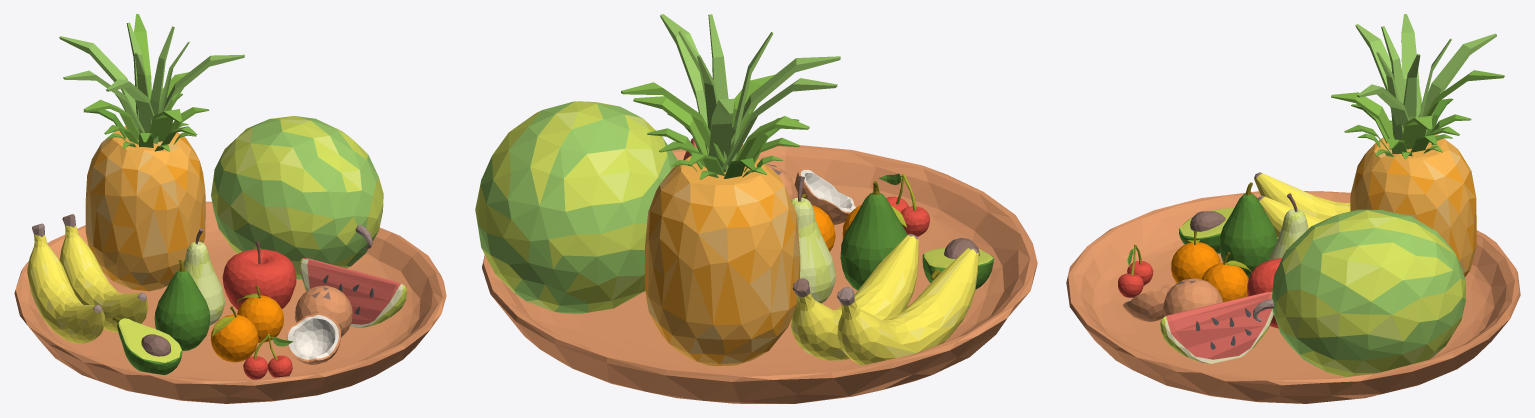
Rendered from low_poly_fruits_v2.glb.
3 renders of one model, left to right at view 1: azimuth 30°, elevation 25°; view 2: azimuth 150°, elevation 25°; view 3: azimuth 270°, elevation 25°, orthographic. The views are drawn at different scales.
Visible parts, largest first — view 1: Object_9, Object_8, Object_11, Object_4, Object_3, Object_6, Object_10, Object_2, Object_12, Object_7, Object_5; view 2: Object_9, Object_8, Object_11, Object_4, Object_3, Object_7, Object_6, Object_5, Object_12; view 3: Object_9, Object_11, Object_8, Object_10, Object_3, Object_12, Object_6, Object_4, Object_5, Object_7, Object_2.
Boxes of the visible parts, x1,y1,x2,y2 form: Object_9: [14, 201, 446, 403]; Object_8: [59, 14, 244, 291]; Object_11: [211, 116, 383, 279]; Object_4: [27, 214, 148, 343]; Object_3: [112, 259, 210, 375]; Object_6: [286, 285, 352, 364]; Object_10: [300, 258, 406, 327]; Object_2: [222, 241, 296, 309]; Object_12: [210, 285, 283, 362]; Object_7: [183, 228, 224, 325]; Object_5: [243, 334, 293, 379]; Object_9: [482, 144, 1037, 403]; Object_8: [621, 14, 840, 365]; Object_11: [475, 101, 677, 313]; Object_4: [791, 233, 978, 365]; Object_3: [840, 180, 993, 290]; Object_7: [791, 176, 835, 303]; Object_6: [765, 164, 856, 225]; Object_5: [878, 173, 929, 236]; Object_12: [802, 194, 906, 251]; Object_9: [1066, 191, 1520, 403]; Object_11: [1253, 209, 1465, 376]; Object_8: [1331, 14, 1504, 277]; Object_10: [1160, 292, 1273, 363]; Object_3: [1179, 182, 1277, 278]; Object_12: [1171, 231, 1251, 302]; Object_6: [1122, 278, 1222, 321]; Object_4: [1254, 172, 1350, 238]; Object_5: [1118, 244, 1153, 297]; Object_7: [1269, 193, 1308, 260]; Object_2: [1247, 258, 1282, 328].
Size of the model in its own units: 3.84 by 2.51 by 3.84.
11 materials, 11 textured.
